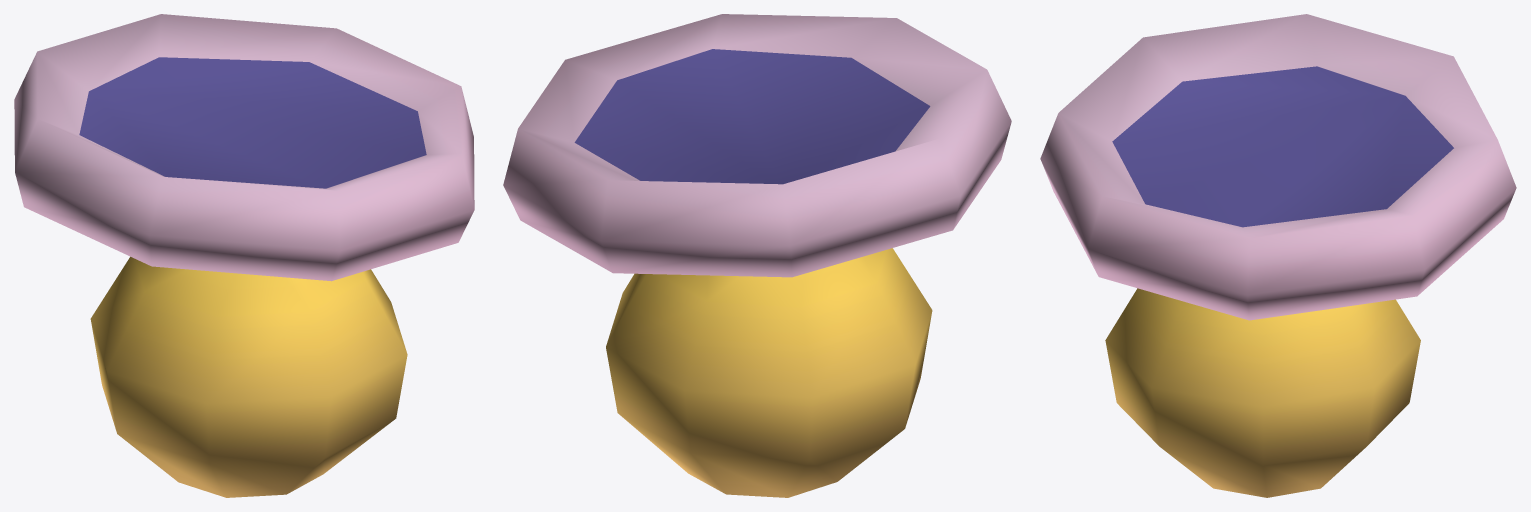
Rendered from setas_trampolin.fbx.
3 renders of one model, left to right at view 1: azimuth 30°, elevation 25°; view 2: azimuth 150°, elevation 25°; view 3: azimuth 270°, elevation 25°, orthographic. The views are drawn at different scales.
Visible parts, largest first — view 1: SetaM05; view 2: SetaM05; view 3: SetaM05.
Boxes of the visible parts, x1,y1,x2,y2 form: SetaM05: [14, 14, 474, 497]; SetaM05: [503, 14, 1011, 497]; SetaM05: [1040, 14, 1516, 497].
Bounding box in the file's own units: 5138 × 4346 × 5164.
